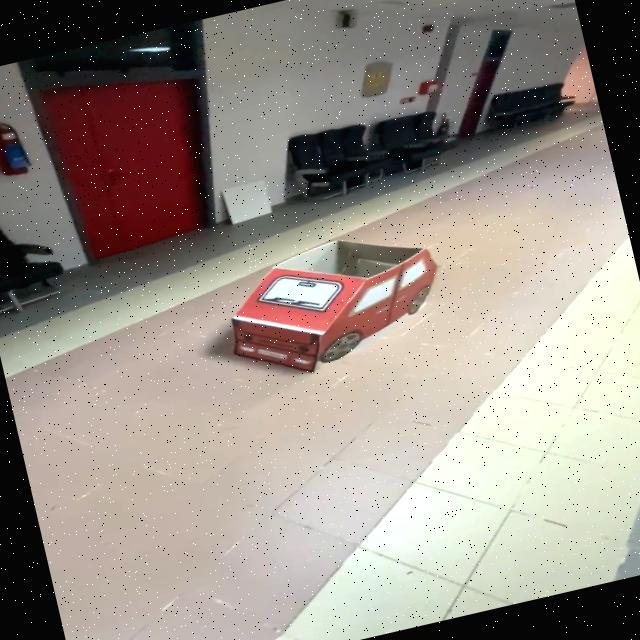red_car: (194, 199, 492, 422)
